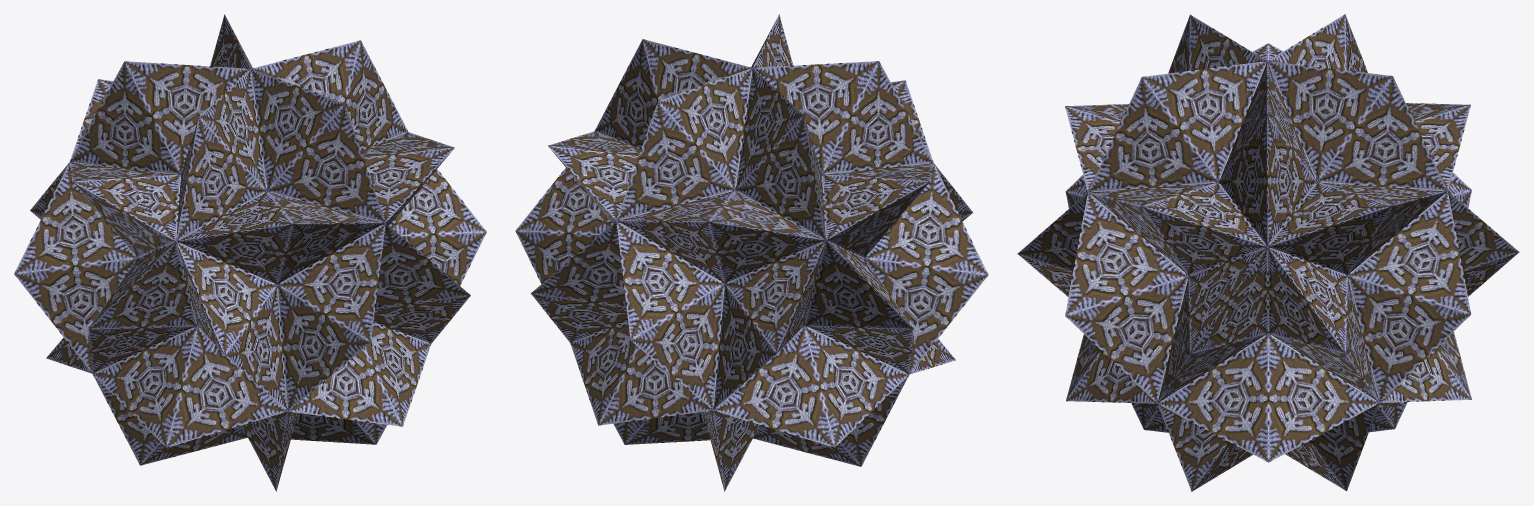
The model's file is Mobius120a_3.obj.
3 renders of one model, left to right at view 1: azimuth 30°, elevation 25°; view 2: azimuth 150°, elevation 25°; view 3: azimuth 270°, elevation 25°, orthographic. The views are drawn at different scales.
Bounding box in the file's own units: 3.62 × 3.25 × 3.8.
1 material, 1 textured.
